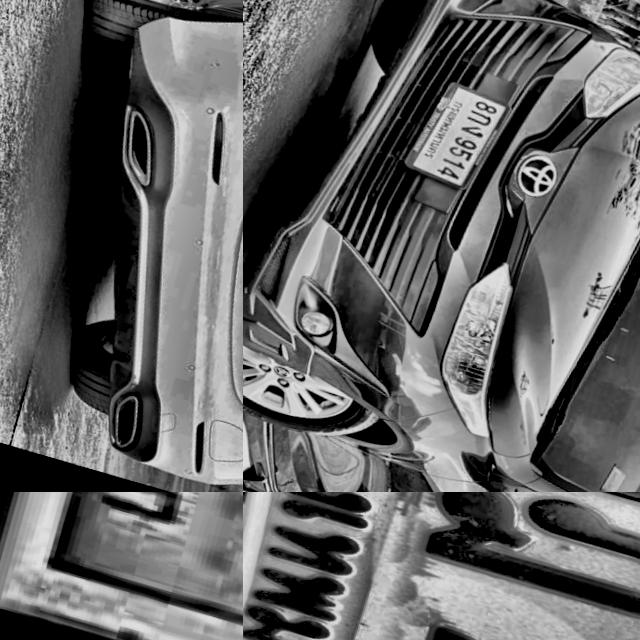license-plate: (243, 492, 640, 640), (0, 492, 243, 640), (401, 70, 517, 201)
